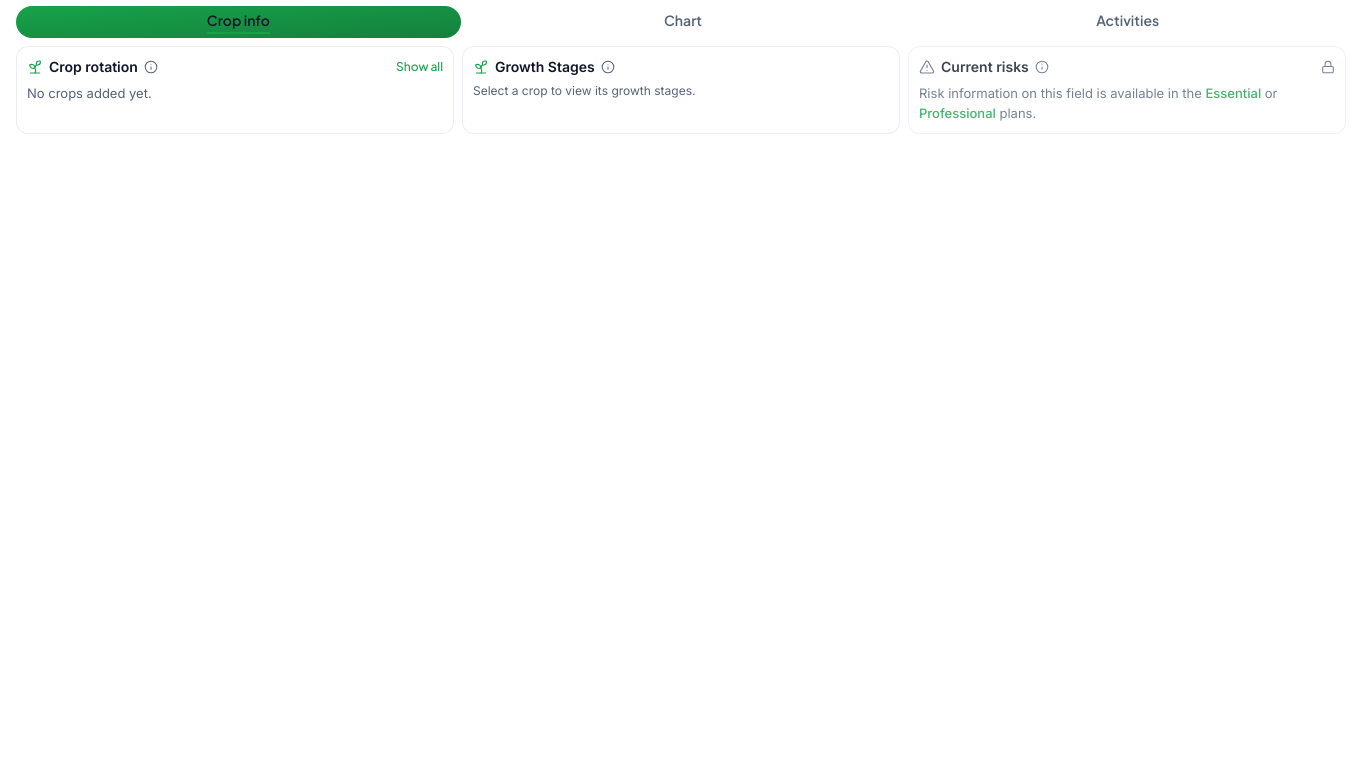
Test: IndexPanel tabbed analytics (Phase F) › surfaces EOS-04 SAR support as cloud-gap context only
Press the mouse on the tab with test id "index-panel-tab-chart" at x=683, y=22, box x1=461 y1=6 x2=905 y2=38
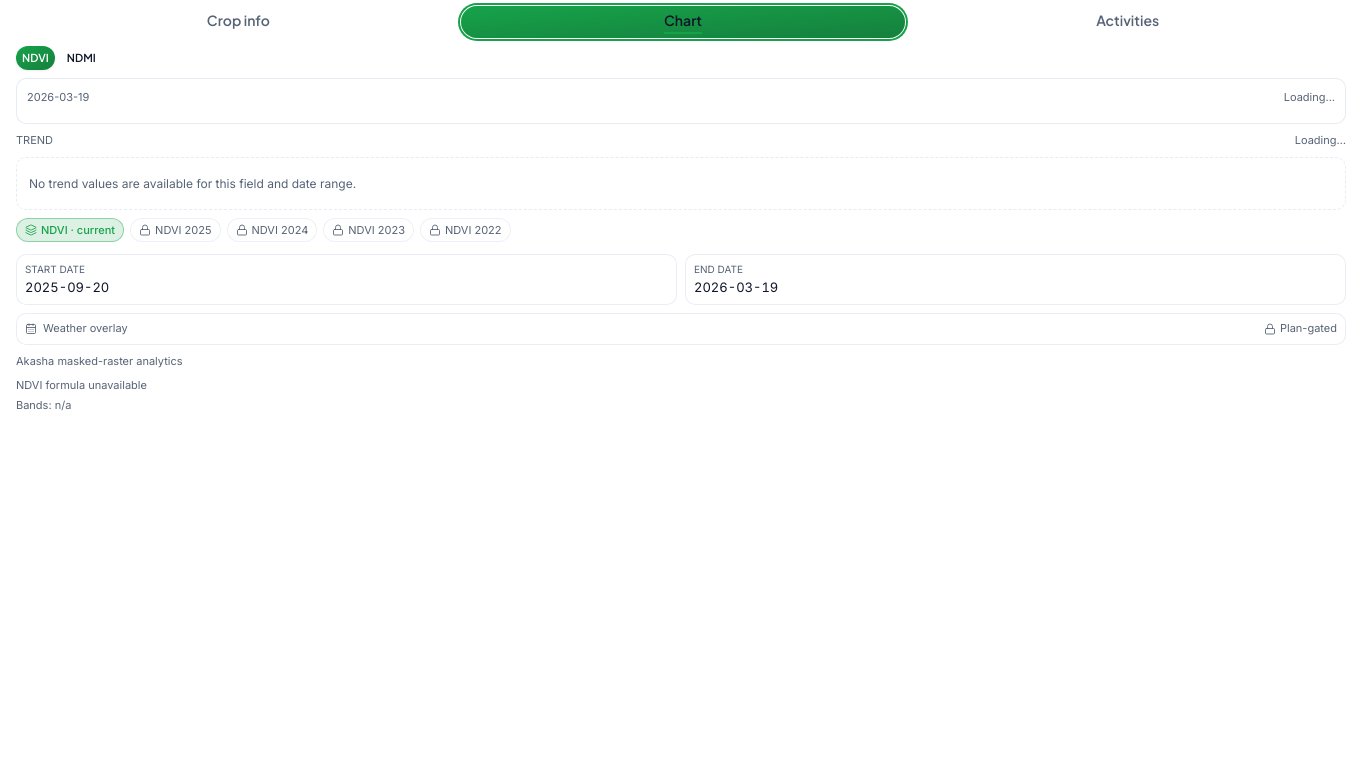
Click the tab with test id "index-panel-tab-chart".
click(683, 22)  # box x1=461 y1=6 x2=905 y2=38
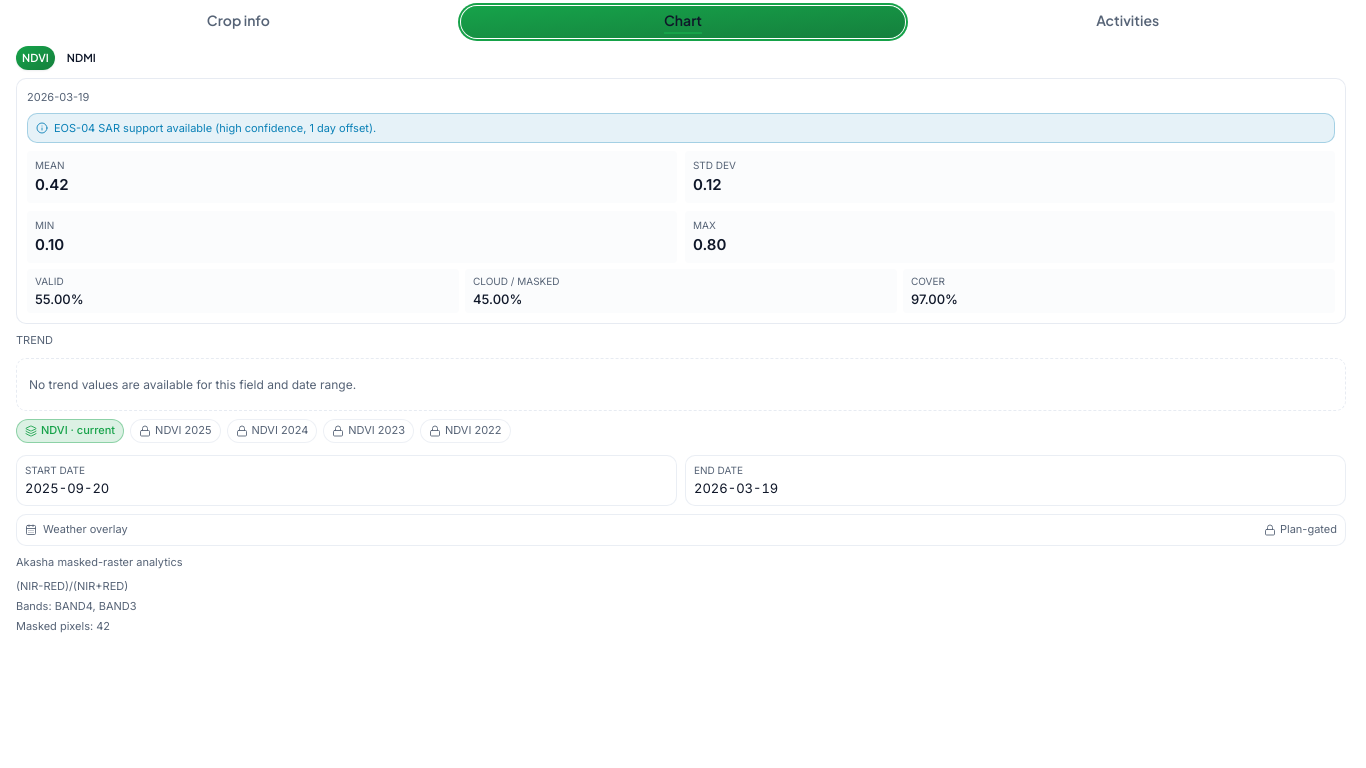
Expected: the element with test id "analytics-sar-support" shows "EOS-04 SAR support available", x1=54 y1=121 x2=376 y2=135
Expected: the element with test id "analytics-sar-support" shows "high confidence", x1=54 y1=121 x2=376 y2=135
